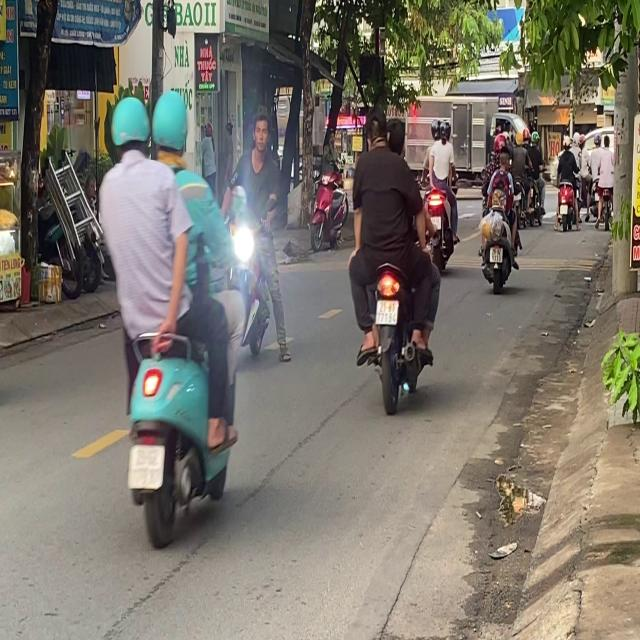helmet: (150, 88, 189, 164), (109, 93, 150, 161), (493, 133, 507, 153)
licenseplate: (94, 85, 245, 549), (346, 103, 441, 411), (224, 103, 298, 378), (476, 125, 522, 292)
motorcyclist: (252, 103, 272, 158), (364, 106, 388, 148), (387, 116, 404, 154), (498, 148, 512, 175)
nohelmet: (128, 444, 164, 488), (376, 299, 398, 323), (489, 246, 502, 262)
